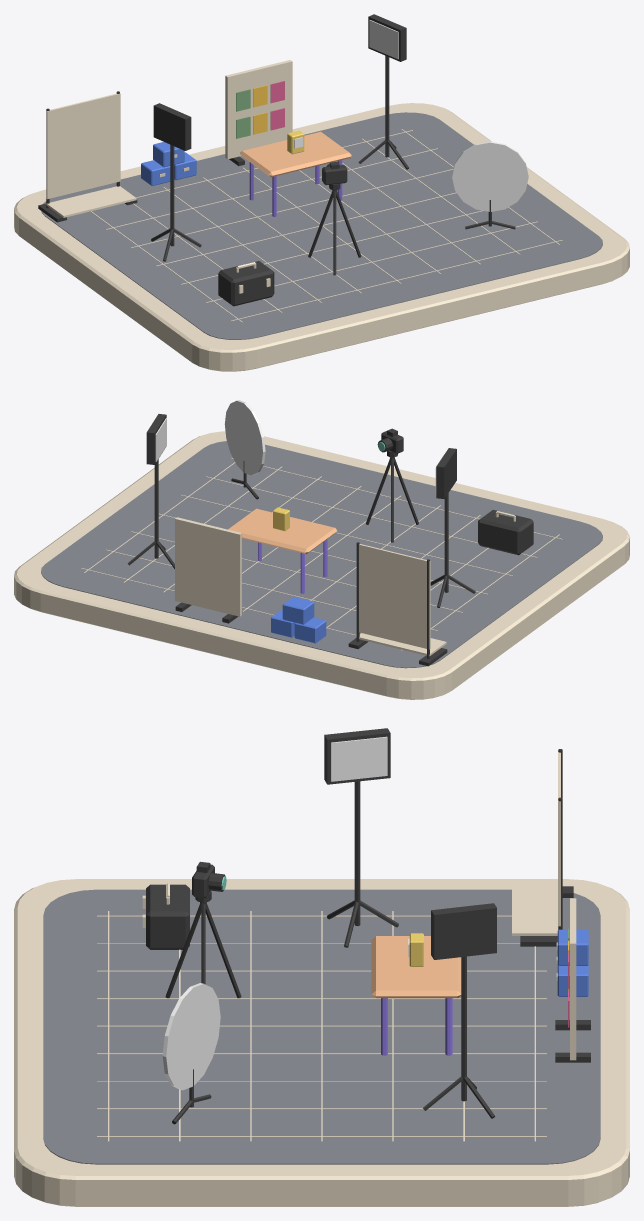
3 views of the same model, one above another, from view 1: azimuth 30°, elevation 25°; view 2: azimuth 150°, elevation 25°; view 3: azimuth 270°, elevation 25° (orthographic). The views are drawn at different scales.
Parts seen in each view (by area): view 1: COM-02 Floor Surface, COM-01 Rounded Base Direct, Seamless backdrop, Reflector, Panel, Rounded table top, Case, Backdrop sweep, Light panel, Diffuser.001, Light panel.001, Stacked case (+1 smaller); view 2: COM-02 Floor Surface, COM-01 Rounded Base Direct, Seamless backdrop, Panel, Rounded table top, Reflector, Case, Light panel, Stacked case.002, Backdrop sweep, Stacked case, Light panel.001 (+3 smaller); view 3: COM-02 Floor Surface, COM-01 Rounded Base Direct, Reflector, Rounded table top, Light panel.001, Case, Backdrop sweep, Diffuser, Light panel, Panel, Pole, Stacked case.002 (+7 smaller).
Part boxes in pixels (x1,y1,x2,y2): COM-02 Floor Surface: (41, 112, 602, 339); COM-01 Rounded Base Direct: (14, 103, 629, 371); Seamless backdrop: (46, 93, 120, 199); Reflector: (452, 141, 528, 211); Panel: (225, 60, 292, 159); Rounded table top: (240, 131, 351, 177); Case: (218, 261, 274, 306); Backdrop sweep: (46, 186, 136, 217); Light panel: (153, 103, 191, 150); Diffuser.001: (369, 20, 398, 59); Light panel.001: (368, 14, 406, 61); Stacked case: (141, 160, 170, 185); COM-02 Floor Surface: (41, 441, 602, 668); COM-01 Rounded Base Direct: (14, 431, 629, 699); Seamless backdrop: (359, 544, 430, 649); Panel: (175, 517, 241, 616); Rounded table top: (228, 508, 337, 553); Reflector: (224, 400, 265, 475); Case: (478, 510, 533, 555); Light panel: (436, 448, 456, 498); Stacked case.002: (282, 597, 314, 624); Backdrop sweep: (359, 633, 446, 656); Stacked case: (294, 617, 326, 643); Light panel.001: (146, 414, 166, 464); COM-02 Floor Surface: (43, 889, 600, 1164); COM-01 Rounded Base Direct: (14, 879, 629, 1206); Reflector: (162, 983, 220, 1090); Rounded table top: (371, 936, 461, 998); Light panel.001: (431, 903, 496, 959); Case: (146, 884, 189, 949); Backdrop sweep: (512, 882, 558, 935); Diffuser: (331, 736, 387, 781); Light panel: (324, 728, 390, 784); Panel: (570, 898, 576, 1060); Pole: (354, 781, 360, 925); Stacked case.002: (557, 929, 588, 965).
Bounding box in the file's own units: 6 × 2.14 × 5.2.
Materials: 1 (1 with a texture image).
